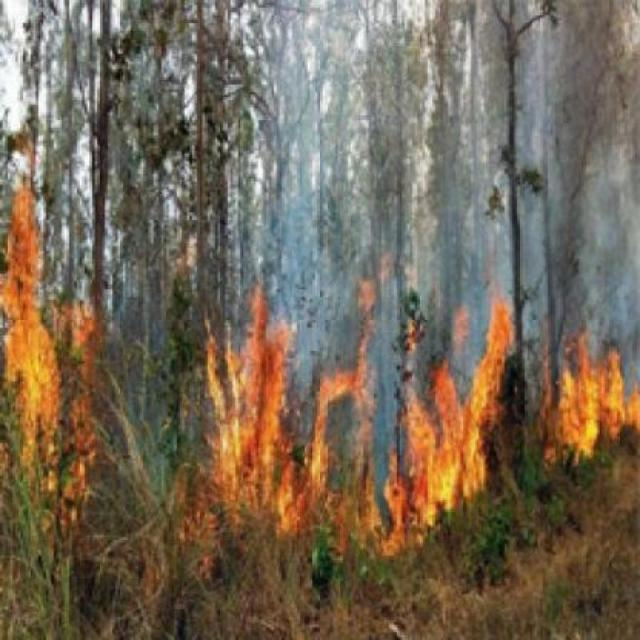Fire: (5, 225, 640, 547)
